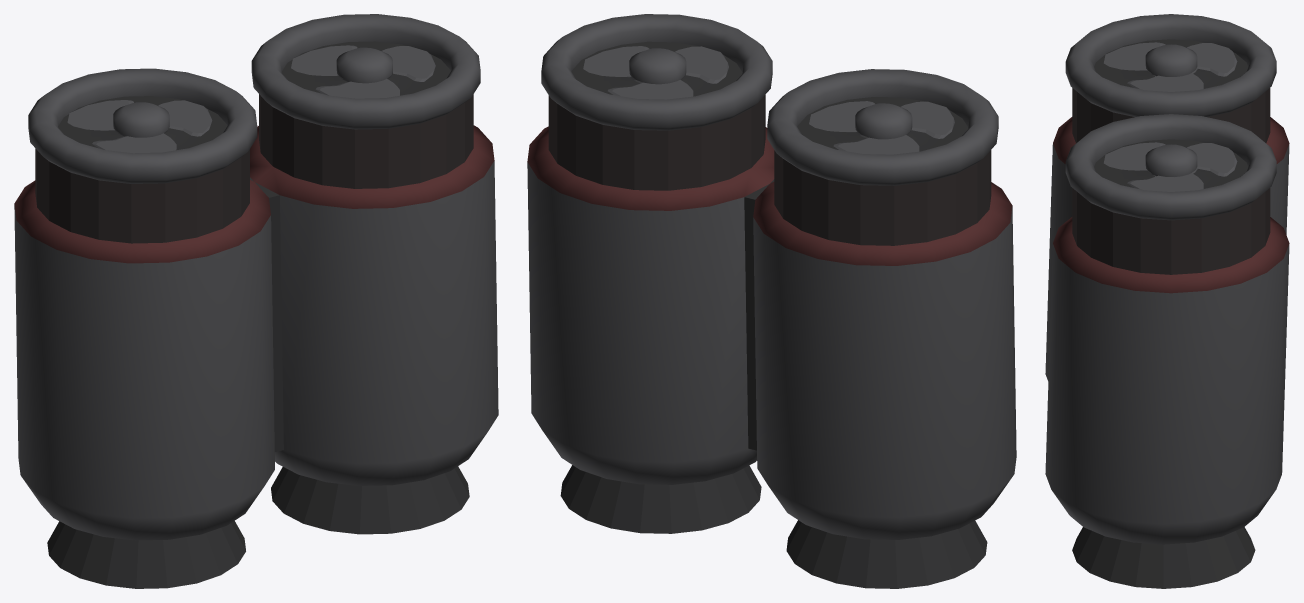
The model's file is Rocket.fbx.
The picture shows the model from 3 angles, left to right: view 1: azimuth 30°, elevation 25°; view 2: azimuth 150°, elevation 25°; view 3: azimuth 270°, elevation 25°; orthographic projection. The views are drawn at different scales.
Parts seen in each view (by area): view 1: polySurface10; view 2: polySurface10; view 3: polySurface10.
Part boxes in pixels (x1=…): polySurface10: x1=14, y1=14, x2=498, y2=588; polySurface10: x1=527, y1=14, x2=1016, y2=588; polySurface10: x1=1045, y1=14, x2=1289, y2=588.
Size of the model in its own units: 0.79 by 0.7333 by 0.4073.
